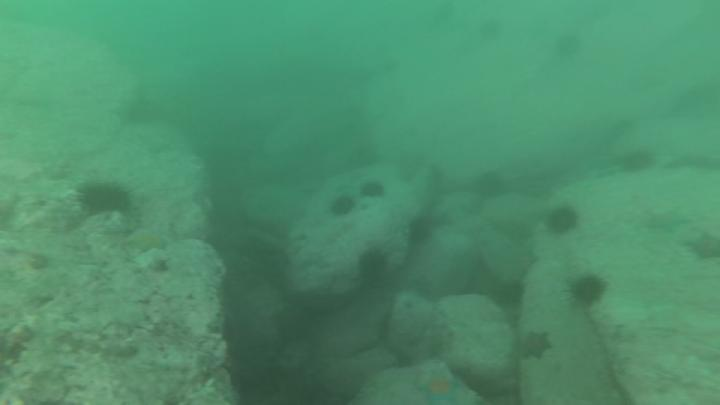echinus: (76, 179, 135, 218), (565, 271, 609, 308), (545, 205, 581, 237), (359, 247, 391, 279), (621, 147, 656, 176), (474, 169, 506, 200), (478, 16, 507, 45), (500, 278, 527, 307), (329, 194, 360, 219), (409, 216, 434, 246), (556, 33, 583, 60), (356, 179, 387, 202)
starfish: (416, 371, 463, 405), (686, 228, 720, 264), (521, 329, 553, 363)
